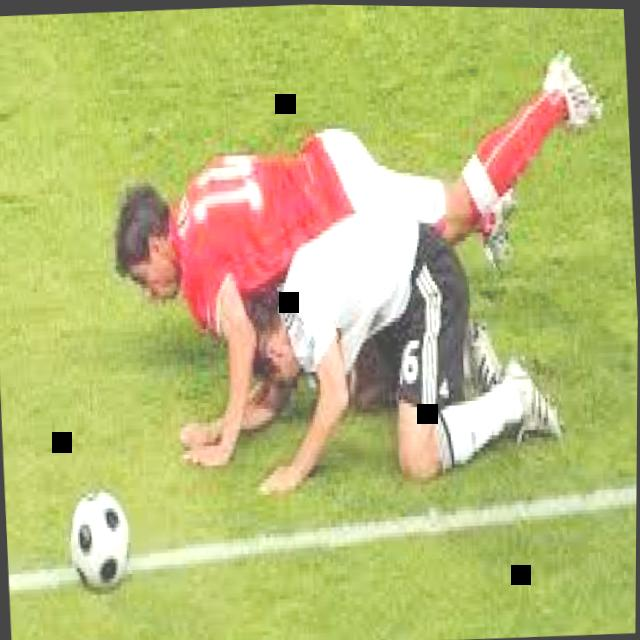Fall-Detected: (126, 59, 582, 457)
